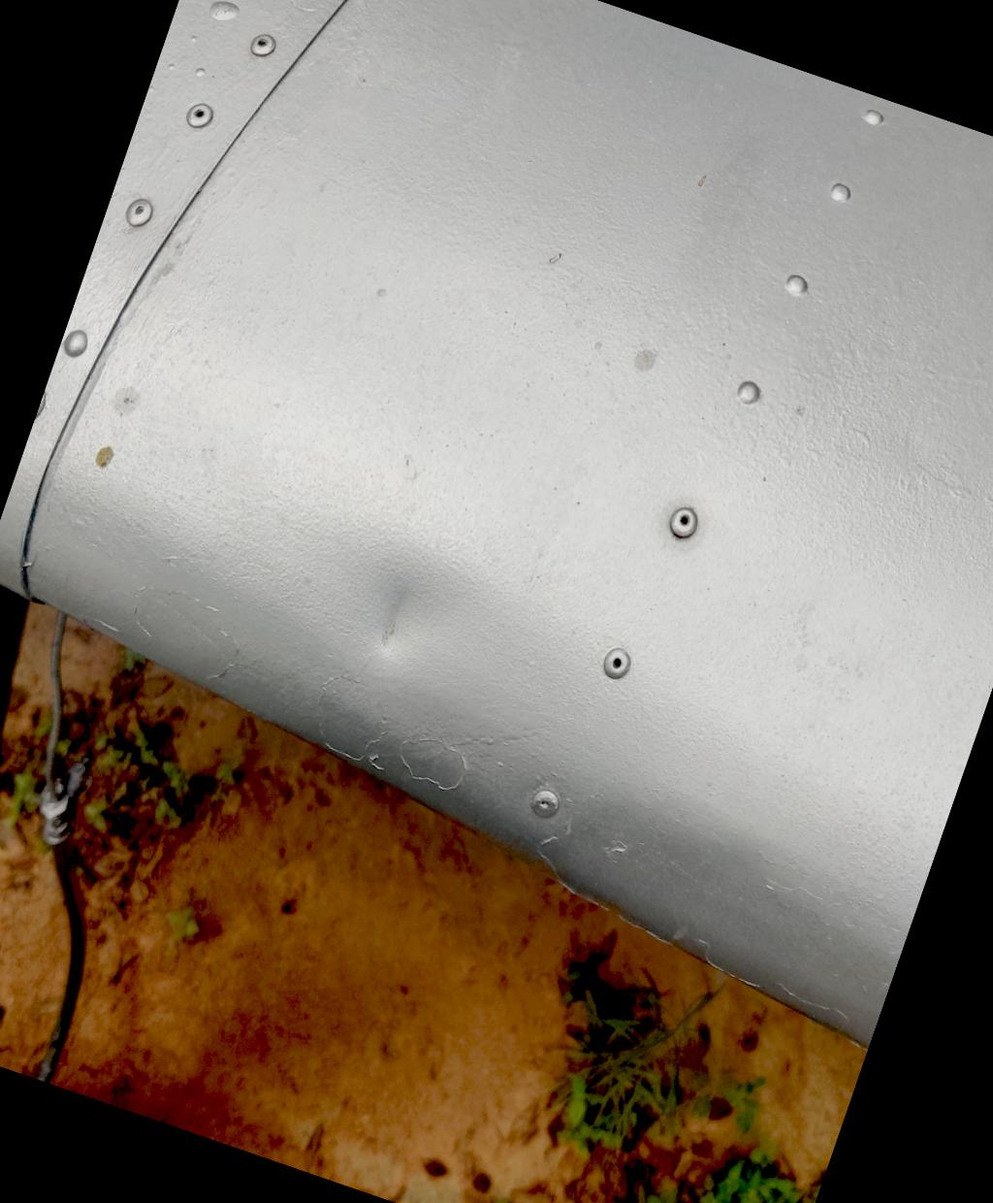dent: (337, 532, 461, 683)
